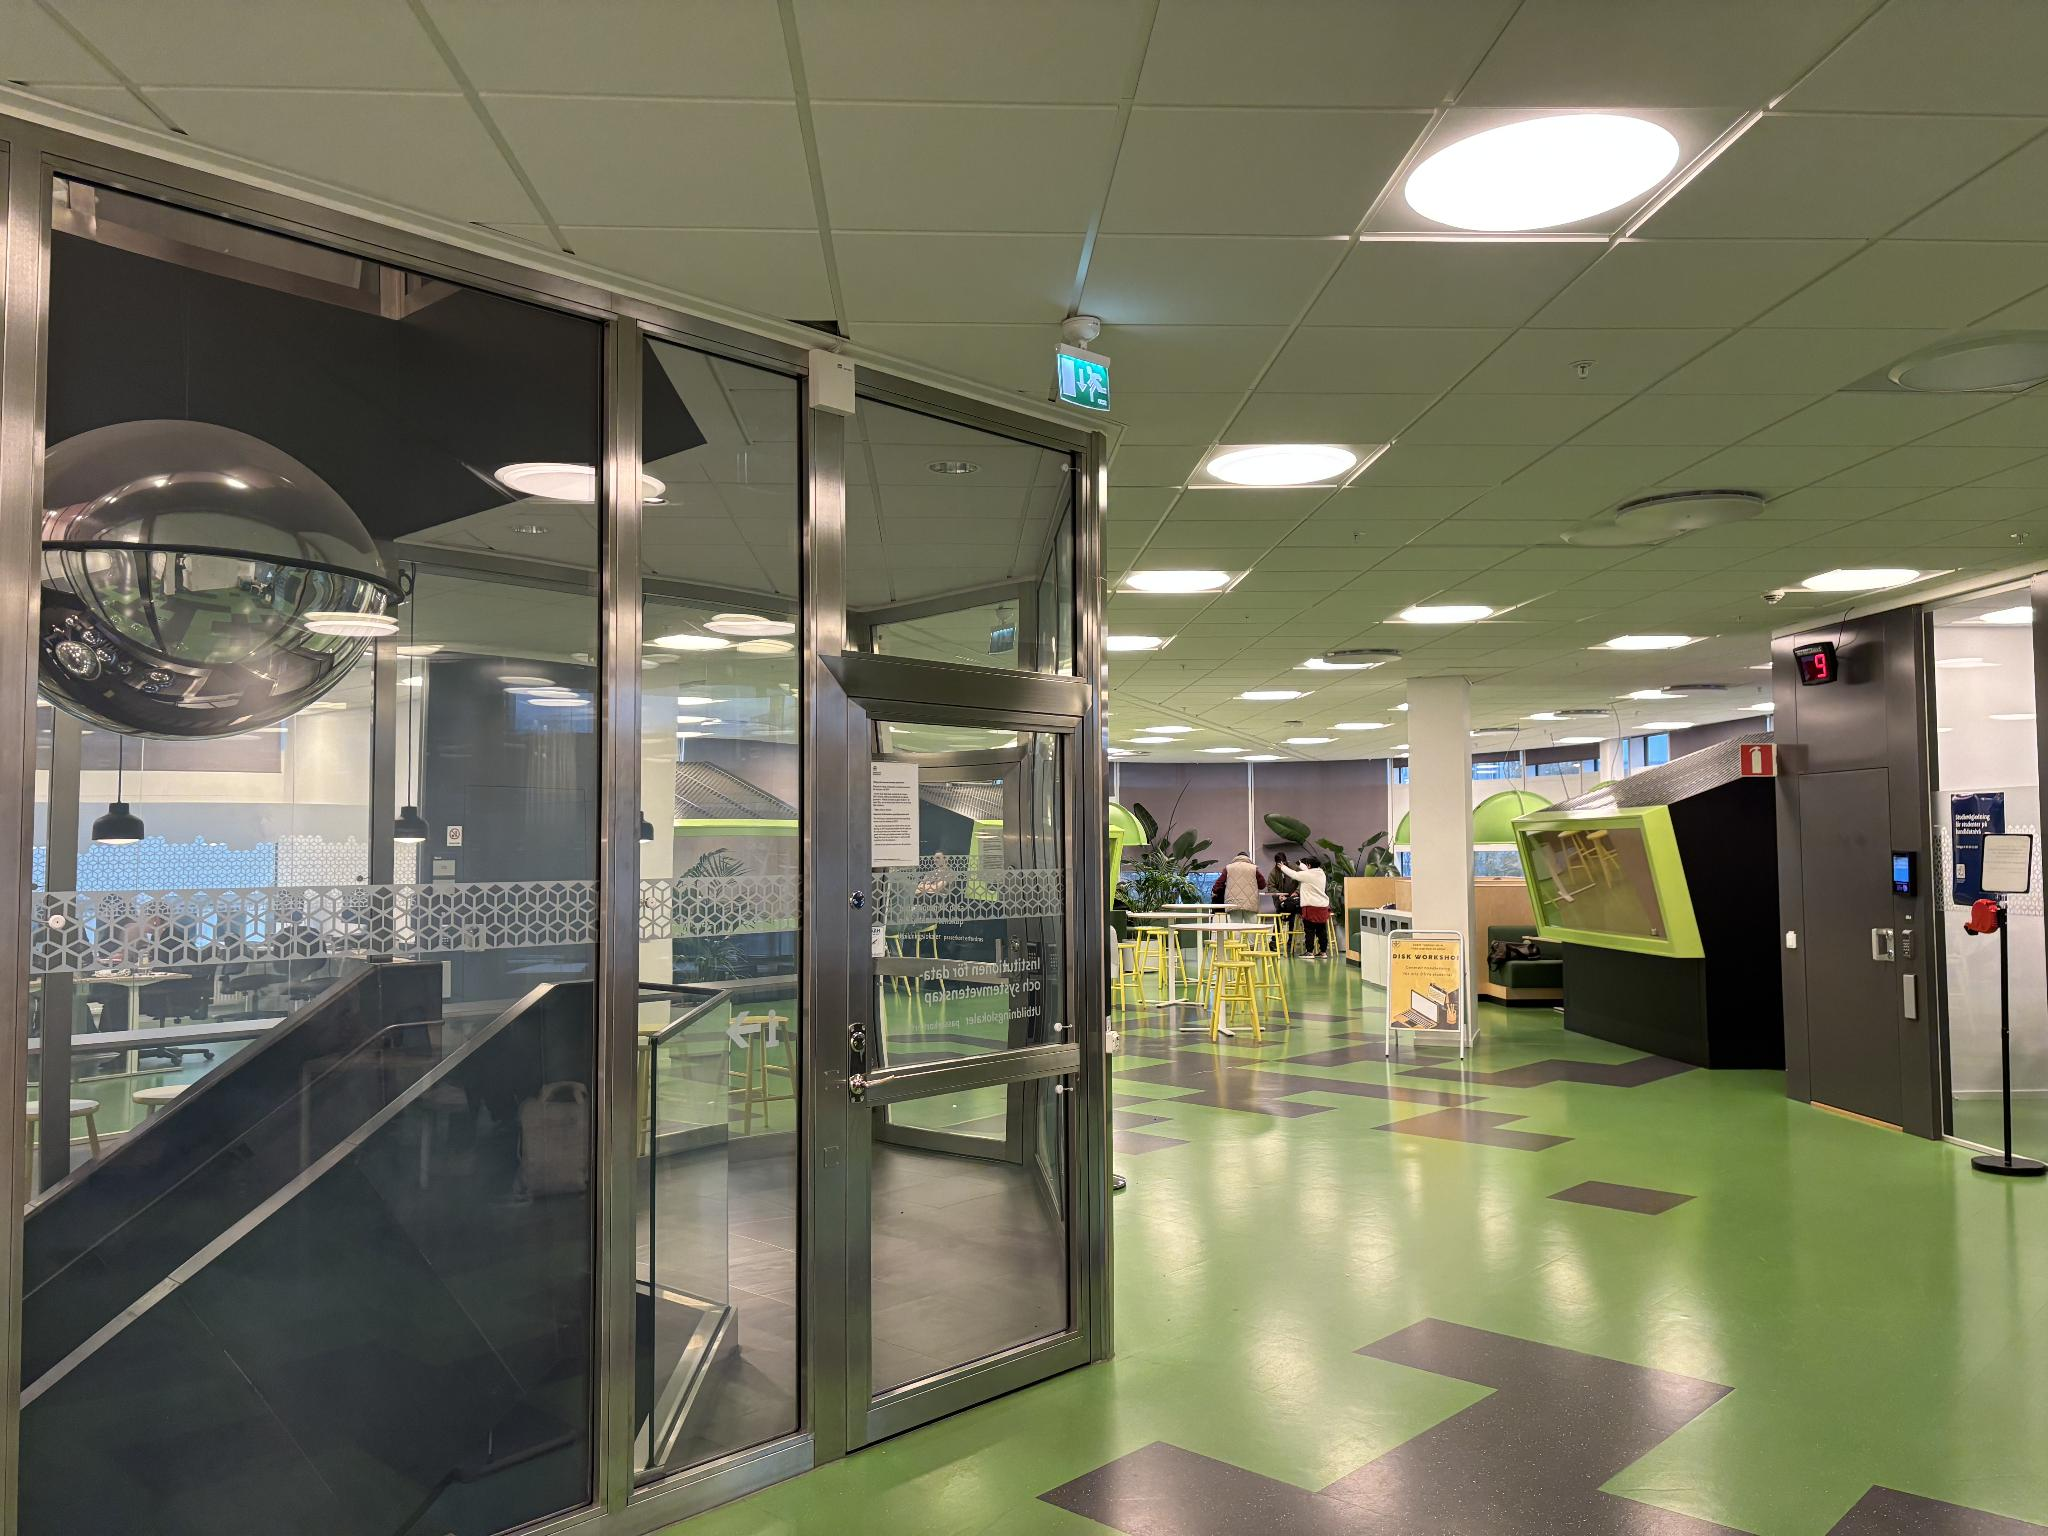exit_sign: (1058, 349, 1118, 411)
